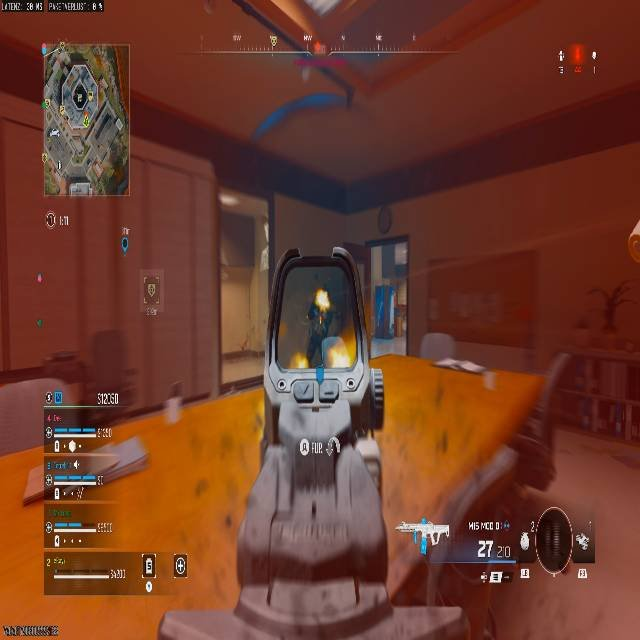player: (304, 297, 328, 367)
